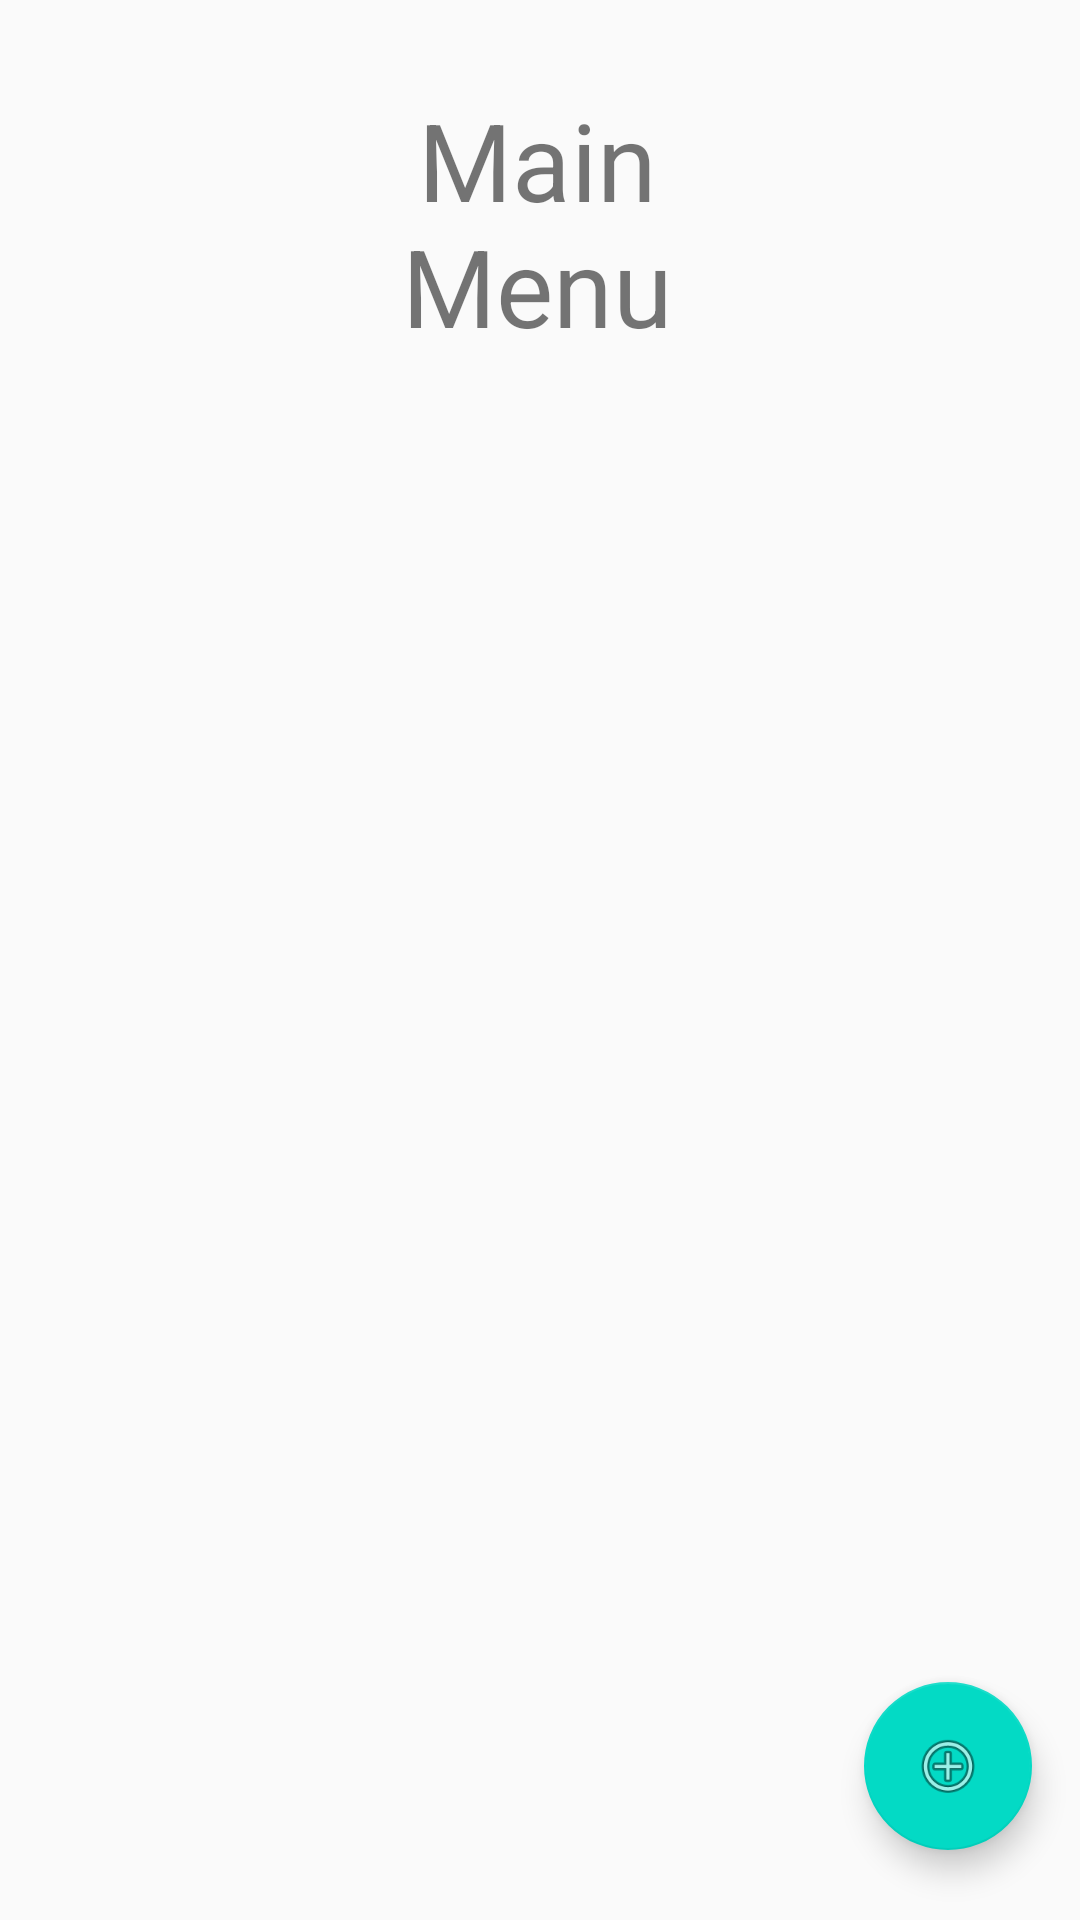

Where to tap for icons on this 1080*1920 app screen, as (x=x, y=y):
add: (x=948, y=1766)
